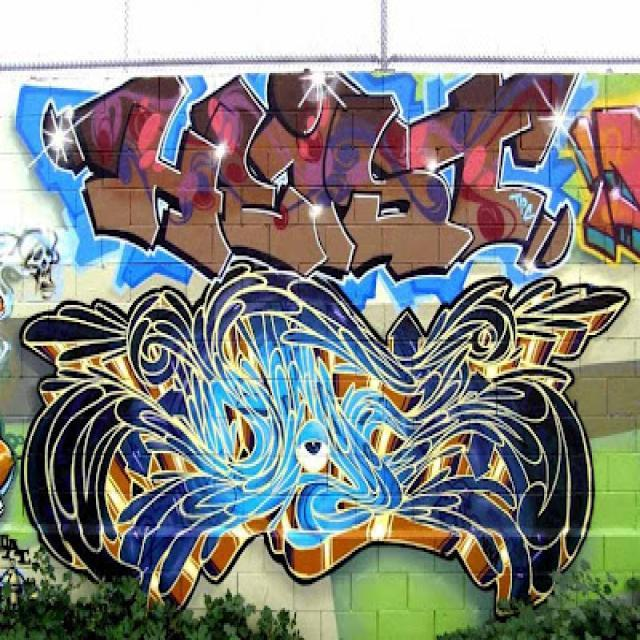-: (19, 261, 632, 619), (16, 73, 574, 277), (567, 103, 640, 263)
